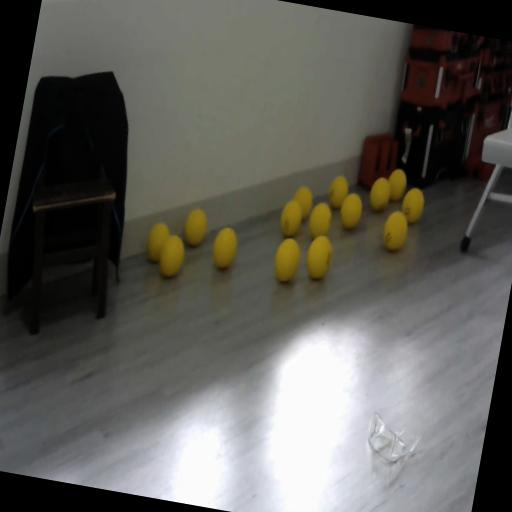FUEL: (270, 234, 304, 285), (302, 232, 336, 281), (208, 223, 240, 272), (379, 208, 410, 253), (142, 218, 172, 264), (180, 205, 210, 248), (306, 200, 334, 242), (336, 190, 364, 231), (398, 185, 426, 226), (366, 174, 392, 214), (289, 184, 315, 222), (384, 166, 409, 202), (326, 174, 350, 210)
